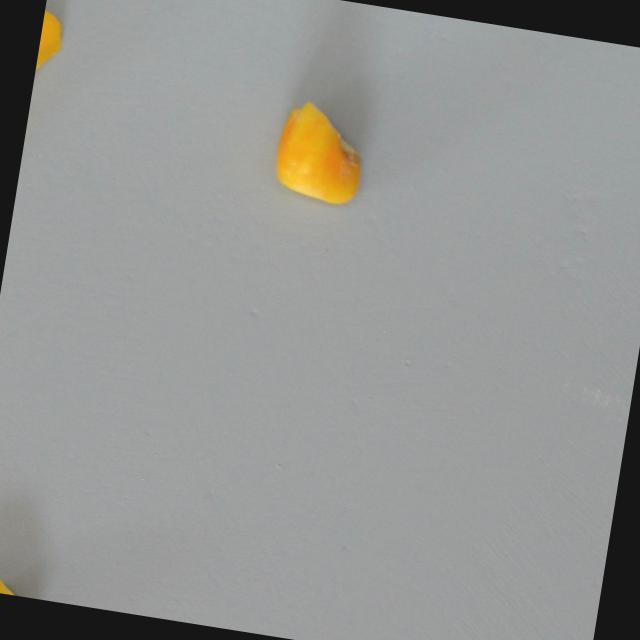dañado: (263, 93, 373, 211), (25, 0, 71, 141), (0, 572, 46, 600)
